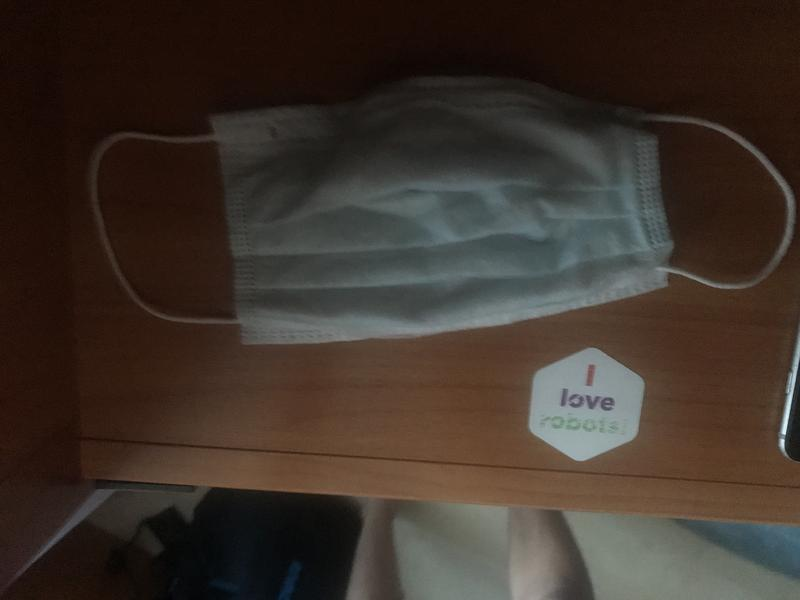medical_mask: (69, 65, 791, 347)
